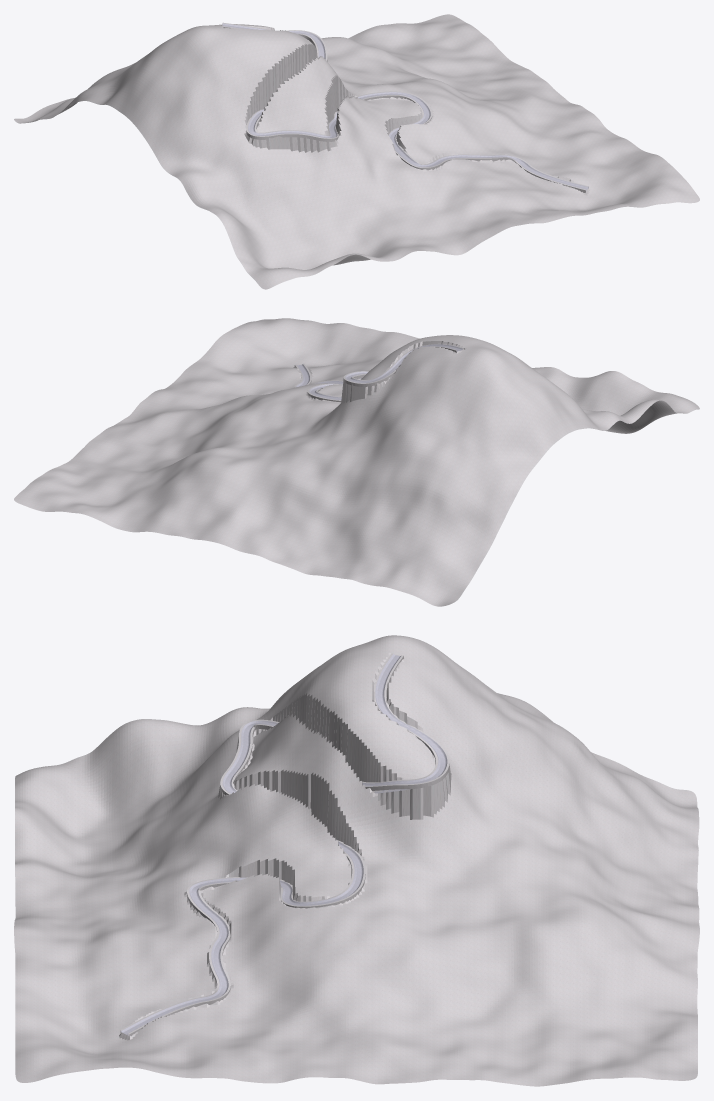
The model's file is Road_V_1.fbx.
The picture shows the model from 3 angles, top to bottom: view 1: azimuth 30°, elevation 25°; view 2: azimuth 150°, elevation 25°; view 3: azimuth 270°, elevation 25°; orthographic projection. The views are drawn at different scales.
Parts seen in each view (by area): view 1: Plane.001, Road.001; view 2: Plane.001, Road.001; view 3: Plane.001, Road.001.
Part boxes in pixels (left/top/right/bottom): Plane.001: left=14, top=14, right=699, bottom=289; Road.001: left=222, top=22, right=588, bottom=192; Plane.001: left=14, top=318, right=699, bottom=606; Road.001: left=294, top=343, right=464, bottom=402; Plane.001: left=14, top=635, right=699, bottom=1086; Road.001: left=120, top=653, right=449, bottom=1037.
Bounding box in the file's own units: 20058 × 7068 × 20091.
